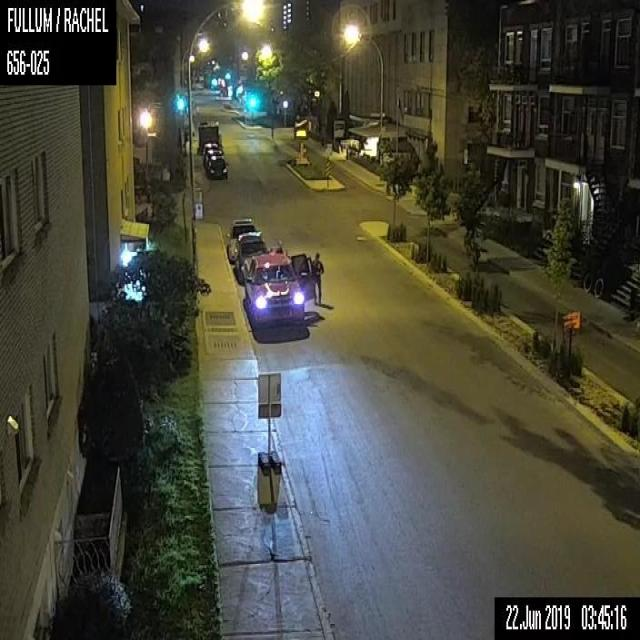construction: (293, 125, 310, 165), (565, 310, 579, 328)
pedestrian: (310, 249, 323, 303), (275, 238, 283, 252)
vehicle: (243, 252, 312, 326), (231, 234, 272, 283), (226, 217, 262, 260), (206, 155, 228, 178), (204, 149, 222, 168), (202, 142, 217, 162)
